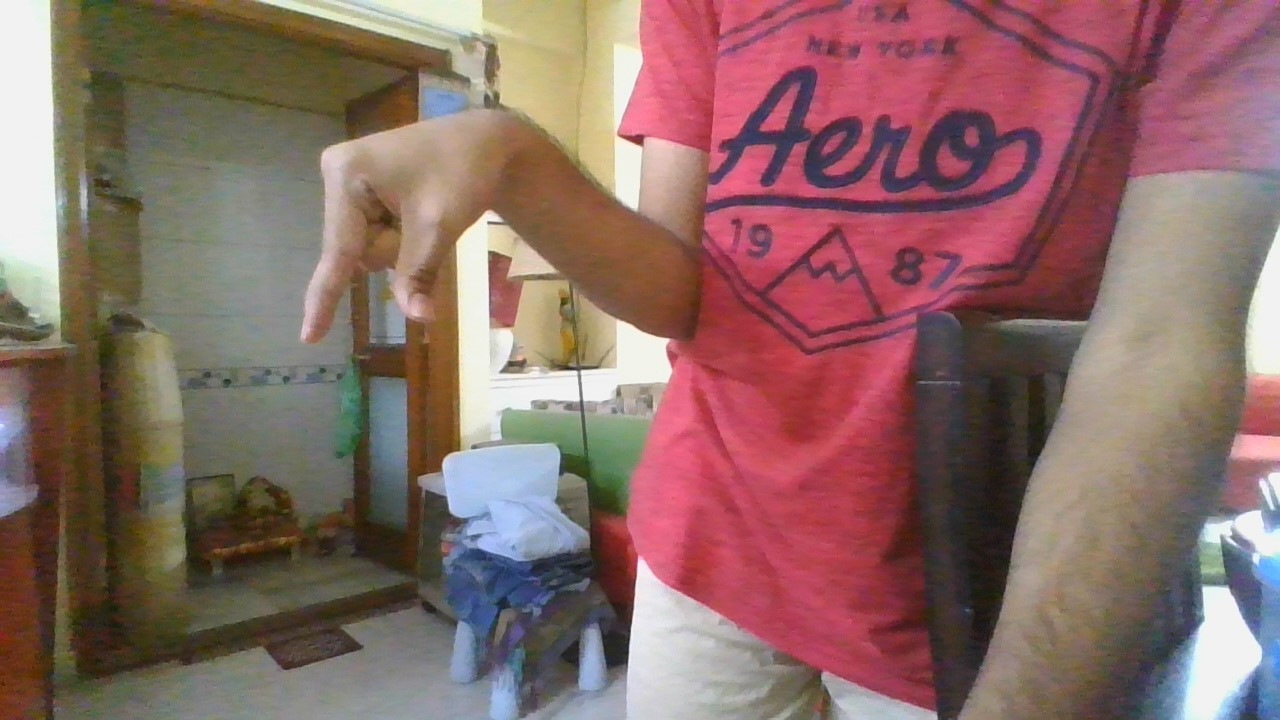q: (296, 103, 523, 350)
